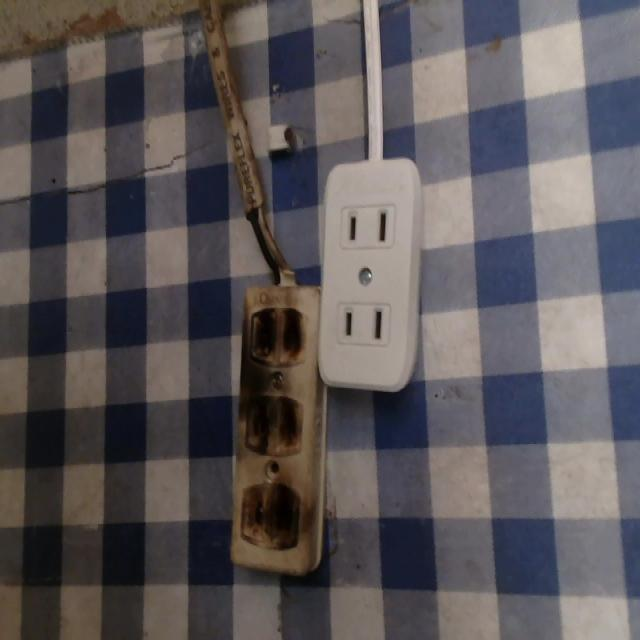-: (237, 479, 303, 552), (242, 392, 310, 460), (246, 300, 310, 367)
